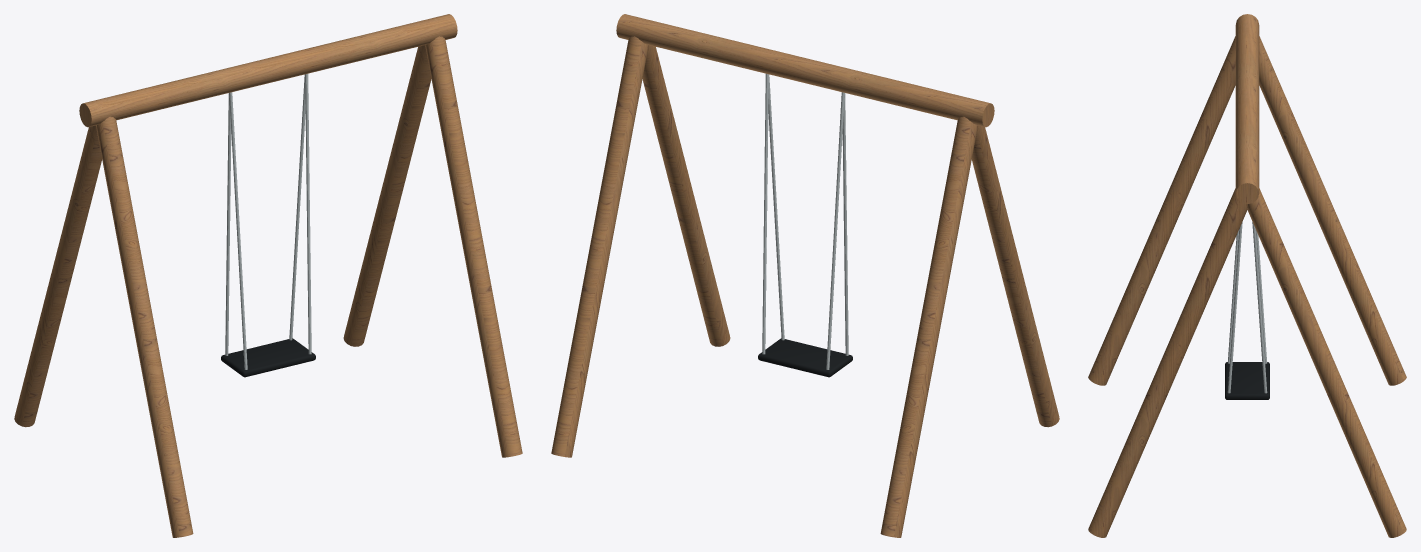
The model's file is columpio_parque_simple_base.glb.
3 renders of one model, left to right at view 1: azimuth 30°, elevation 25°; view 2: azimuth 150°, elevation 25°; view 3: azimuth 270°, elevation 25°, orthographic. The views are drawn at different scales.
Visible parts, largest first — view 1: columpio_parque_simple_base; view 2: columpio_parque_simple_base; view 3: columpio_parque_simple_base.
Boxes of the visible parts, box(x1,y1,x2,y2) form: columpio_parque_simple_base: box(14, 14, 522, 537); columpio_parque_simple_base: box(551, 14, 1059, 537); columpio_parque_simple_base: box(1088, 14, 1406, 537).
Bounding box in the file's own units: 2.4 × 2.39 × 1.91.
Materials: 3 (1 with a texture image).
